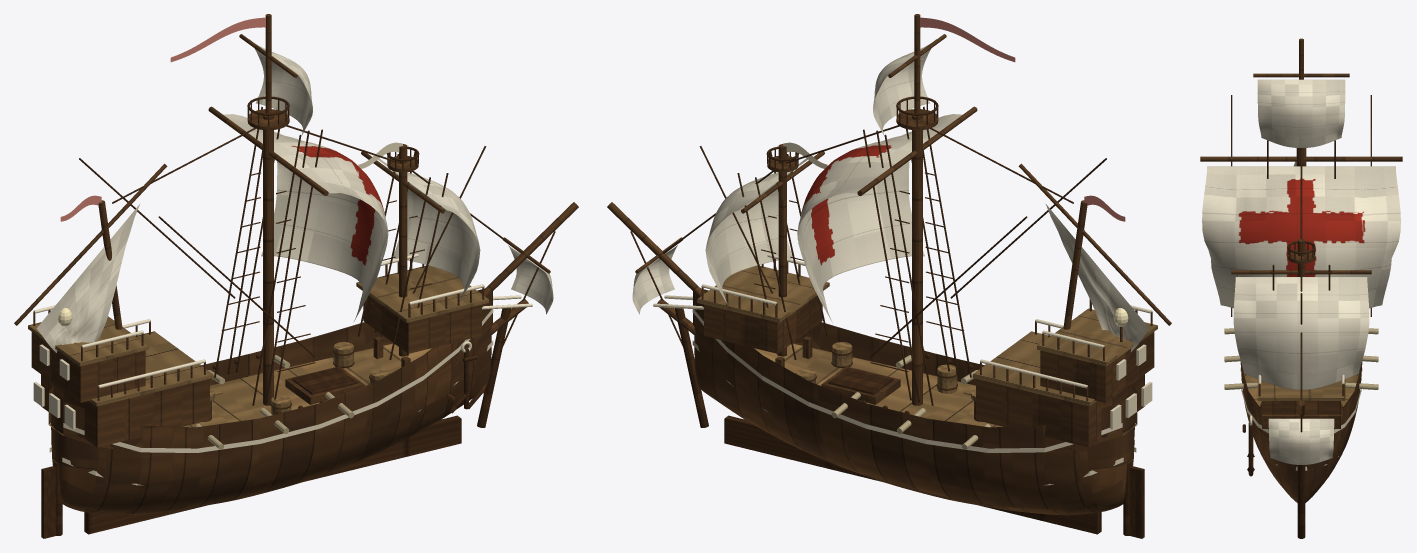
The model's file is ship.glb.
3 renders of one model, left to right at view 1: azimuth 30°, elevation 25°; view 2: azimuth 150°, elevation 25°; view 3: azimuth 270°, elevation 25°, orthographic. The views are drawn at different scales.
Parts seen in each view (by area): view 1: Casco, VelaMayor, Alcazar, VelaTrinquete, VelaMesana, Cubierta, Toldilla, CastilloProaCubierta, CastilloProa, Quilla, AmuradaE, PaloMayor (+18 smaller); view 2: Casco, VelaMayor, Alcazar, VelaTrinquete, Cubierta, Toldilla, CastilloProaCubierta, CastilloProa, Quilla, VelaMesana, PaloMayor, AmuradaB (+18 smaller); view 3: VelaMayor, VelaTrinquete, GaviaMayor, Casco, Cebadera, CastilloProa, CastilloProaCubierta, VergaMayor, VergaTrinquete, Roda, VergaMayorAlta, Cubierta (+5 smaller).
Part boxes in pixels (bbox=[...]): Casco: bbox=[51, 290, 491, 515]; VelaMayor: bbox=[223, 114, 388, 321]; Alcazar: bbox=[41, 374, 209, 447]; VelaTrinquete: bbox=[372, 155, 480, 302]; VelaMesana: bbox=[36, 204, 139, 352]; Cubierta: bbox=[49, 343, 431, 435]; Toldilla: bbox=[31, 332, 145, 402]; CastilloProaCubierta: bbox=[356, 265, 488, 322]; CastilloProa: bbox=[363, 295, 481, 353]; Quilla: bbox=[84, 415, 461, 534]; AmuradaE: bbox=[48, 289, 482, 424]; PaloMayor: bbox=[263, 115, 273, 405]; Casco: bbox=[694, 290, 1134, 515]; VelaMayor: bbox=[797, 114, 962, 322]; Alcazar: bbox=[976, 374, 1144, 447]; VelaTrinquete: bbox=[705, 155, 813, 304]; Cubierta: bbox=[754, 343, 1136, 435]; Toldilla: bbox=[1040, 332, 1154, 402]; CastilloProaCubierta: bbox=[697, 265, 829, 322]; CastilloProa: bbox=[704, 295, 822, 353]; Quilla: bbox=[724, 415, 1101, 534]; VelaMesana: bbox=[1046, 204, 1149, 351]; PaloMayor: bbox=[912, 115, 922, 405]; AmuradaB: bbox=[703, 289, 1137, 424]; VelaMayor: bbox=[1202, 166, 1400, 308]; VelaTrinquete: bbox=[1233, 277, 1369, 389]; GaviaMayor: bbox=[1257, 79, 1345, 147]; Casco: bbox=[1240, 361, 1362, 502]; Cebadera: bbox=[1268, 418, 1334, 464]; CastilloProa: bbox=[1262, 401, 1340, 428]; CastilloProaCubierta: bbox=[1257, 379, 1345, 400]; VergaMayor: bbox=[1200, 156, 1402, 161]; VergaTrinquete: bbox=[1231, 270, 1371, 274]; Roda: bbox=[1297, 465, 1305, 538]; VergaMayorAlta: bbox=[1253, 73, 1349, 77]; Cubierta: bbox=[1244, 374, 1358, 406].
Size of the model in its own units: 12.99 by 10.43 by 4.6.
10 materials, 6 textured.
